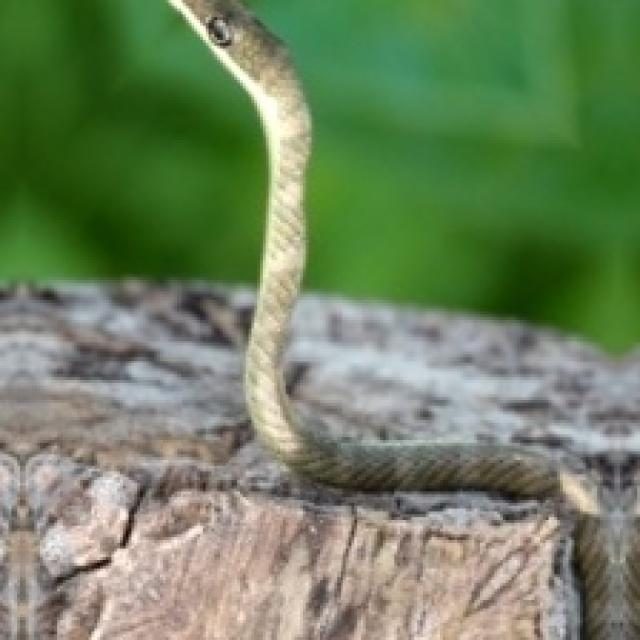paradise tree snake: (169, 0, 637, 637)
